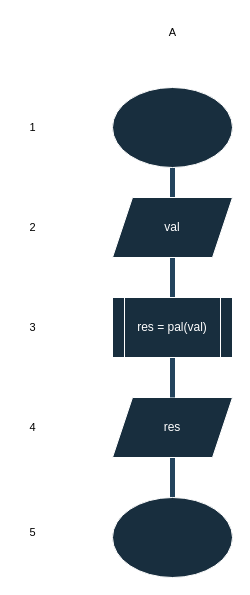
Image size: 250x595. Some labels were removed from this diagram. The shapes that lost their labels are listed below. From the top down, each one's centre as x and y in pixels, then its label:
At [172,127]: "начало".
At [172,537]: "конец".
